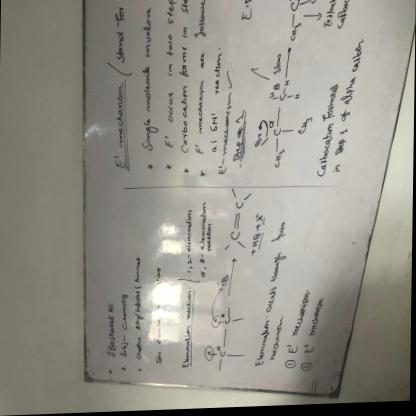Handwritten text: (244, 214, 293, 376), (136, 4, 160, 158), (190, 0, 205, 141), (176, 0, 189, 157), (151, 262, 167, 376), (162, 0, 175, 128), (130, 259, 145, 365), (178, 288, 195, 377), (104, 302, 117, 360), (118, 292, 128, 333)
Whiteboard: (80, 0, 414, 399)
